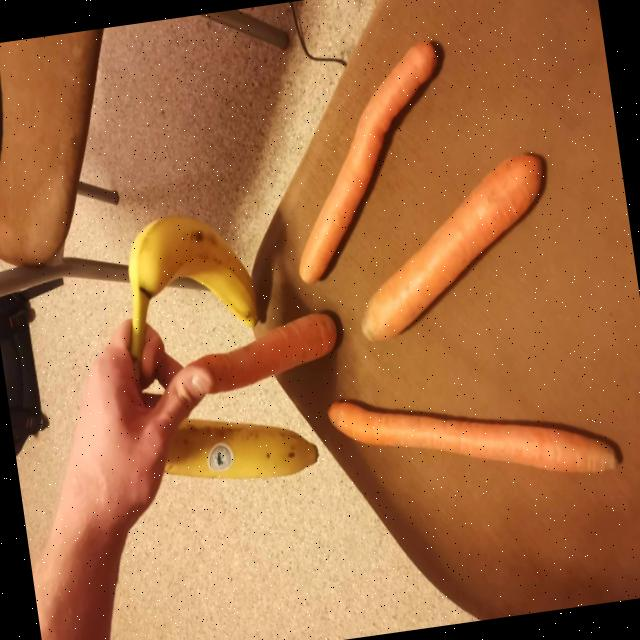banana: (128, 215, 258, 361), (164, 418, 318, 479)
carrot: (362, 154, 542, 340), (299, 41, 436, 283), (328, 401, 618, 472), (194, 313, 337, 392)
